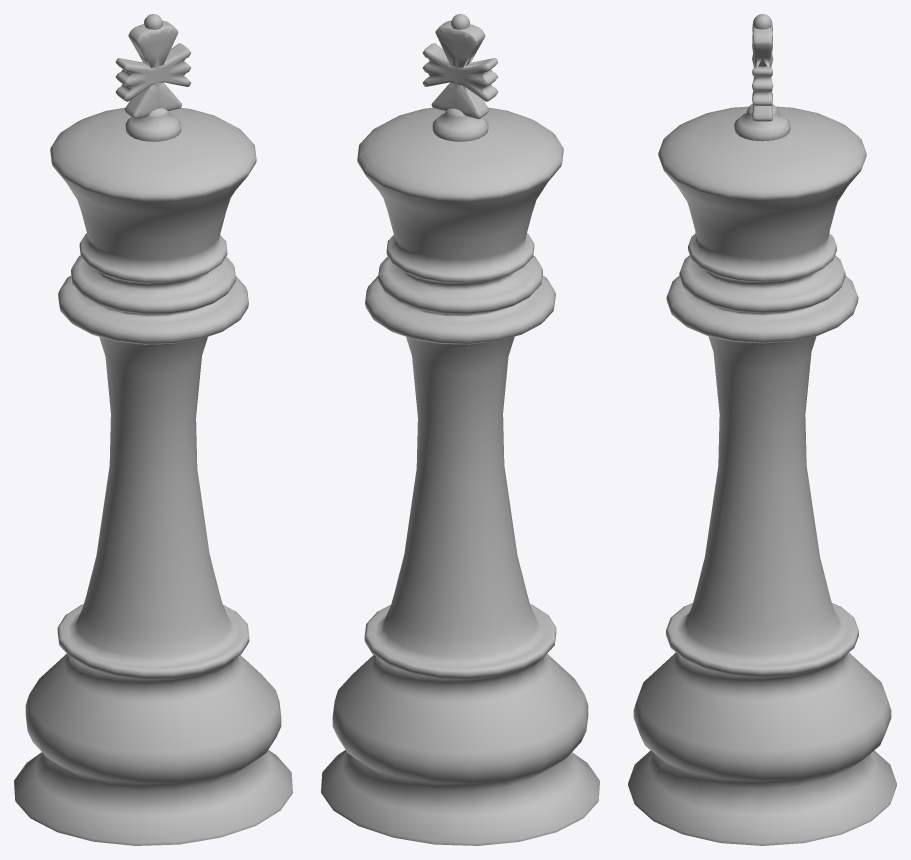
Rendered from WhiteKing.obj.
3 renders of one model, left to right at view 1: azimuth 30°, elevation 25°; view 2: azimuth 150°, elevation 25°; view 3: azimuth 270°, elevation 25°, orthographic.
Parts seen in each view (by area): view 1: King1_King1Shape; view 2: King1_King1Shape; view 3: King1_King1Shape.
Part boxes in pixels (box(x1,y1,x2,y2)): King1_King1Shape: box(14, 14, 292, 845); King1_King1Shape: box(321, 14, 599, 845); King1_King1Shape: box(628, 14, 896, 845).
Bounding box in the file's own units: 0.9952 × 2.99 × 0.9435.
Materials: 1 (1 with a texture image).
